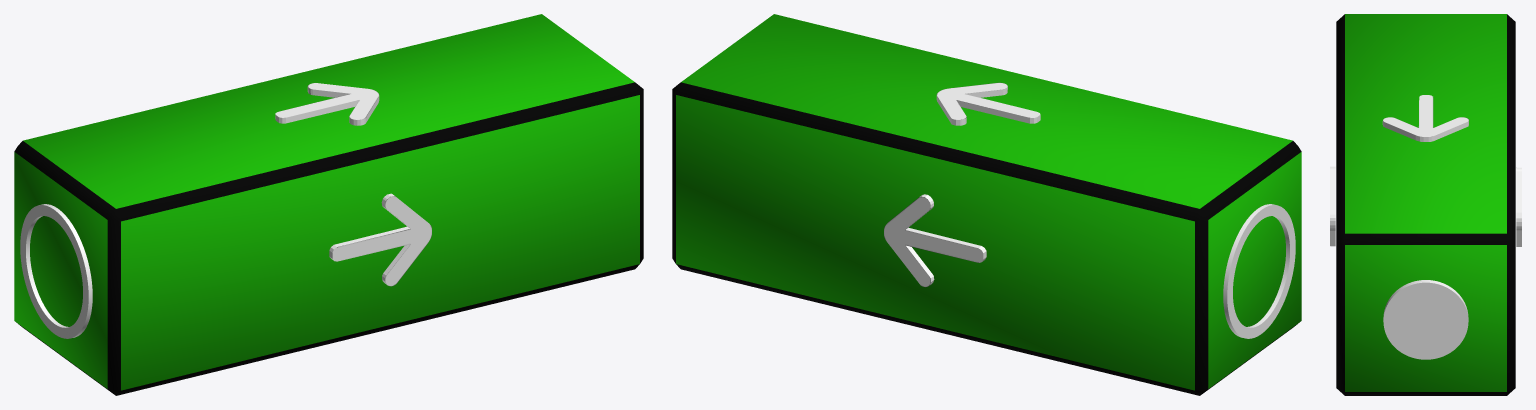
File: BigBoxTapFlowBox_1_1_3_Line_test.fbx
3 renders of one model, left to right at view 1: azimuth 30°, elevation 25°; view 2: azimuth 150°, elevation 25°; view 3: azimuth 270°, elevation 25°, orthographic. The views are drawn at different scales.
Parts seen in each view (by area): view 1: BigBoxTapFlowBox_1_1_3_Line_test; view 2: BigBoxTapFlowBox_1_1_3_Line_test; view 3: BigBoxTapFlowBox_1_1_3_Line_test.
Boxes of the visible parts, box(x1,y1,x2,y2) form: BigBoxTapFlowBox_1_1_3_Line_test: box(14, 14, 643, 395); BigBoxTapFlowBox_1_1_3_Line_test: box(672, 14, 1301, 395); BigBoxTapFlowBox_1_1_3_Line_test: box(1330, 14, 1521, 395).
Size of the model in its own units: 3.22 by 1.14 by 1.12.
1 material, 1 textured.
